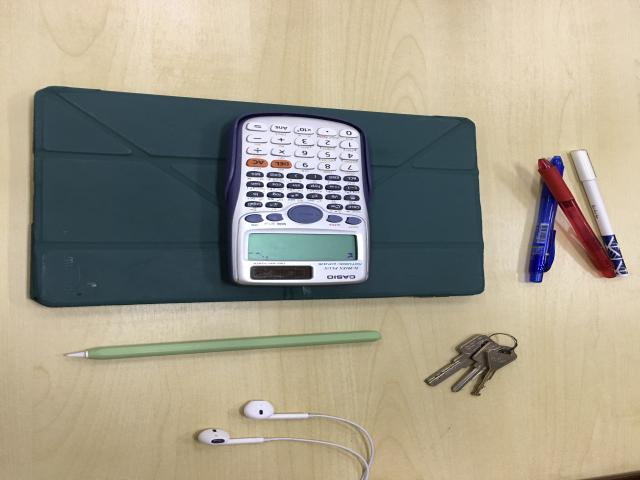Keys: (424, 333, 519, 397)
Pen: (538, 158, 617, 278), (570, 149, 628, 277), (528, 183, 558, 283), (552, 156, 565, 173)
wire: (193, 400, 378, 480)
